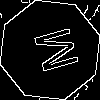M: (25, 25, 80, 77)
